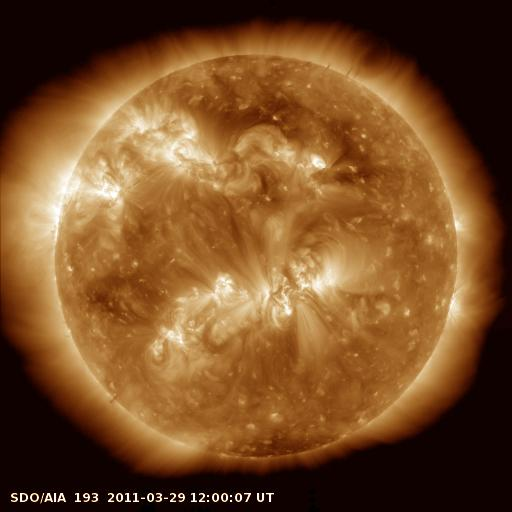coronal_hole: (187, 81, 302, 141), (202, 425, 351, 465), (322, 116, 378, 182)
